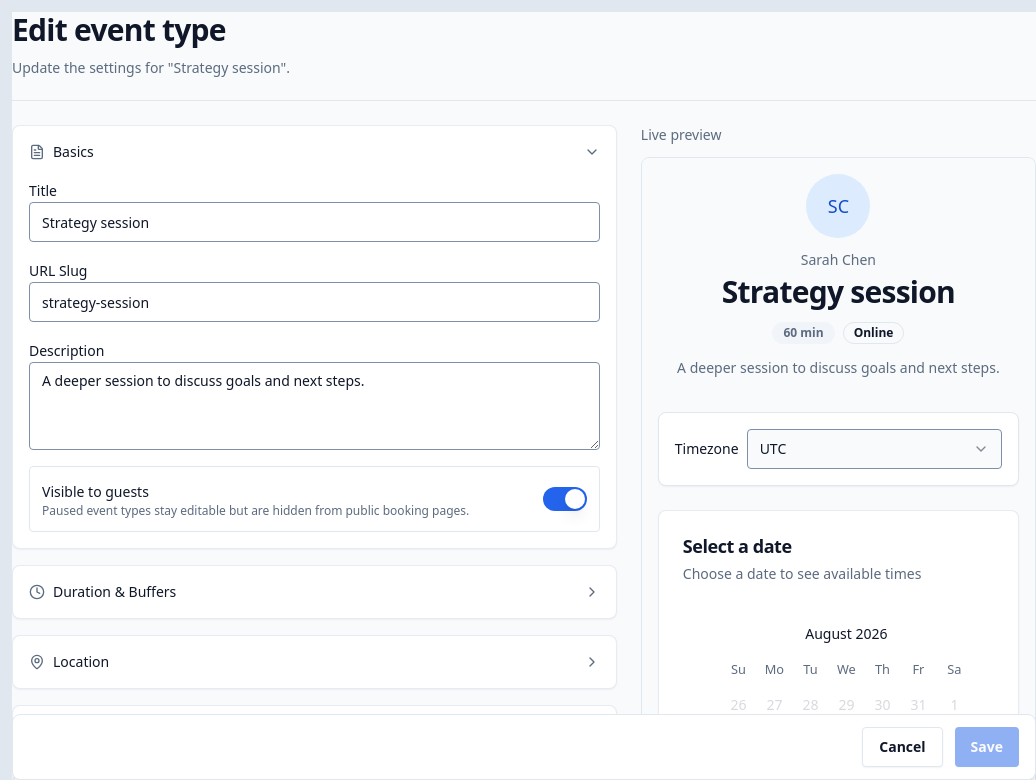
Test case: EditEventTypePage editor › clears field-level validation errors when corrected
The width and height of the screenshot is (1036, 780).
Clear the field labelled "Title": point(314, 222) [29,202,600,242]
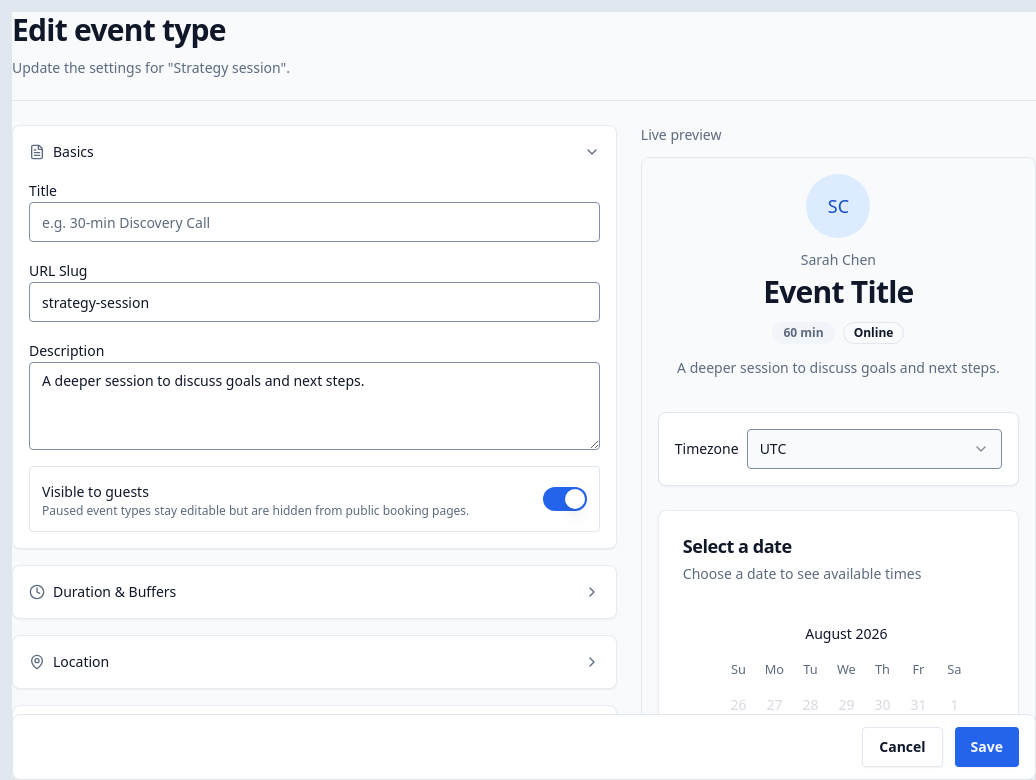
Clear the field labelled "URL Slug": point(314, 302) [29,282,600,322]
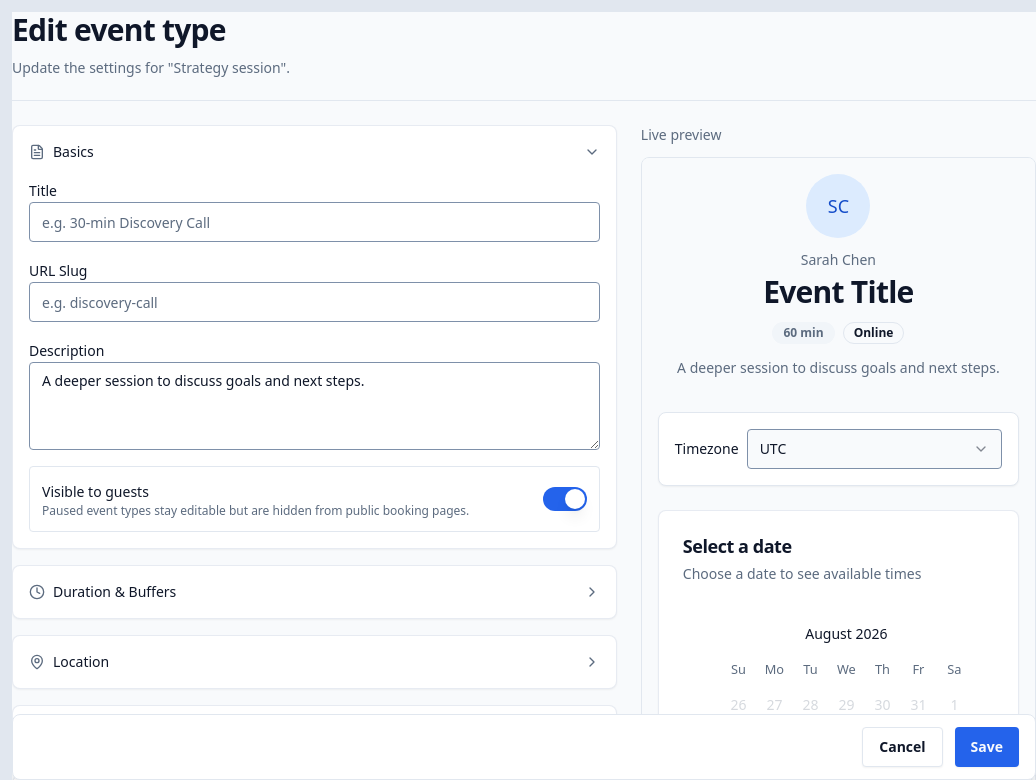
Click the button "Save": point(987, 747) [955,727,1019,767]
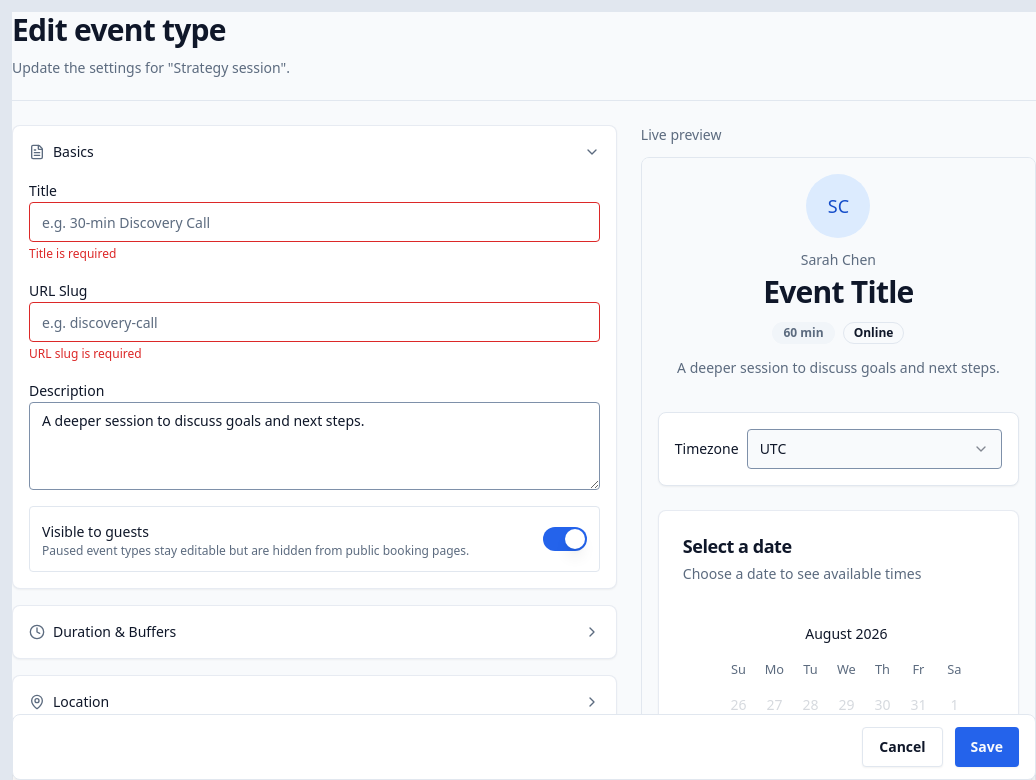
Check: the text "Title is required" is shown, box [29,245,116,262]
Check: the text "URL slug is required" is shown, box [29,345,142,362]
In the field labelled "Title": point(314, 222) [29,202,600,242], type "Strategy workshop"
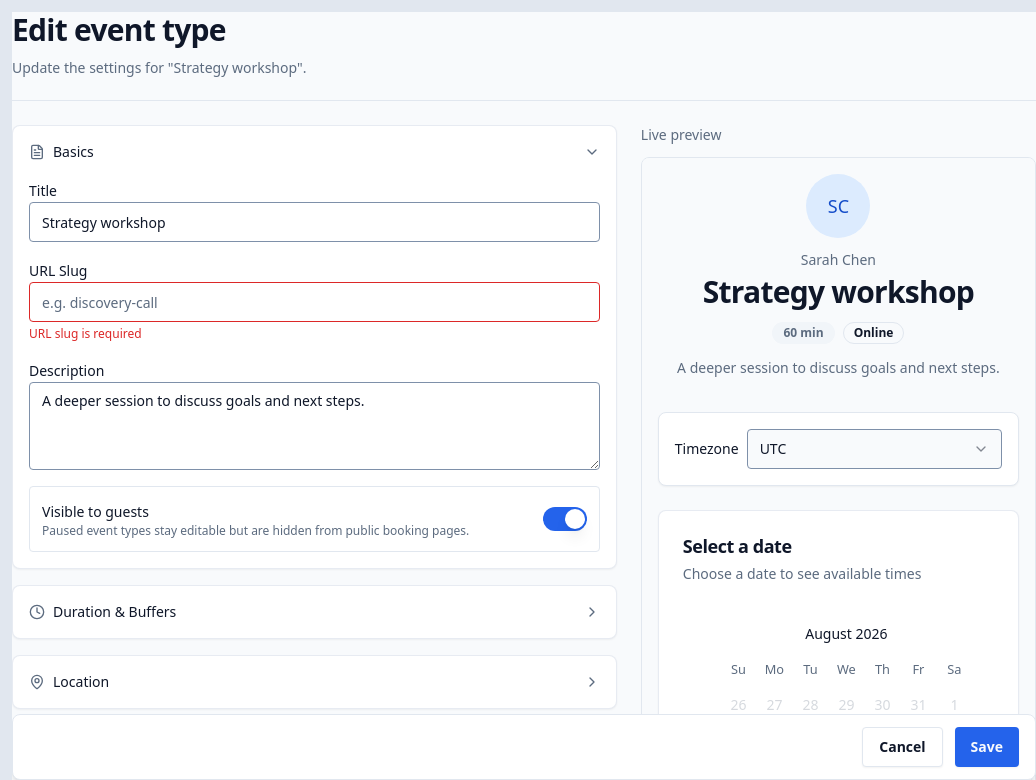
Check: the text "URL slug is required" is shown, box [29,325,142,342]
Check: the text "Title is required" is gone
In the field labelled "URL Slug": point(314, 302) [29,282,600,322], type "strategy-workshop"
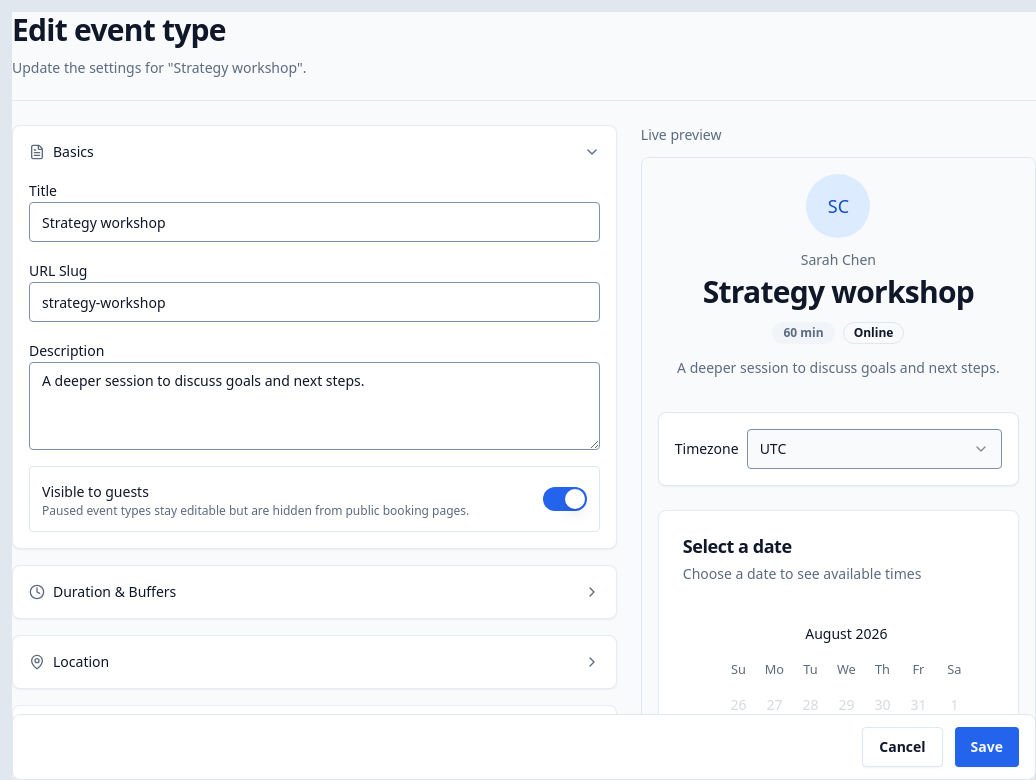
Check: the text "URL slug is required" is gone
